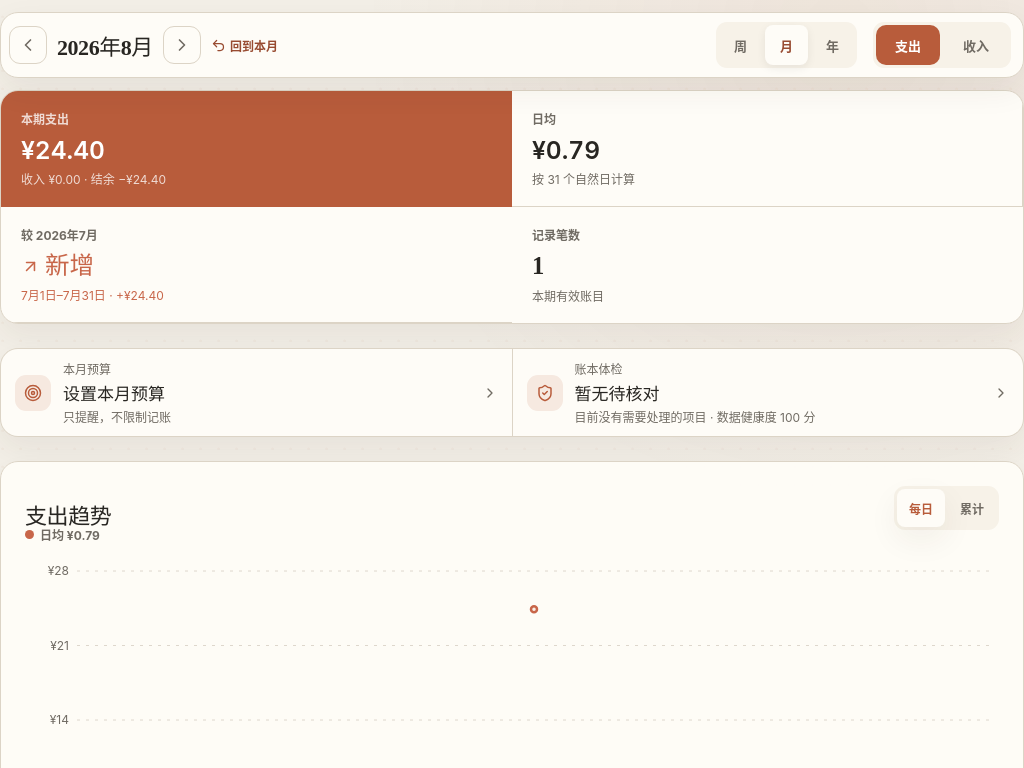
Test case: 洞察与账单下钻 › 期间、粒度和收支集中在同一吸顶栏，预算与事项合并为一张概况列表
Check: the element named "选择期间日期" holds "2026-08-01", box [51,29,159,61]
Check: the button named "上一个期间" is shown, box [9,26,47,64]
Click the button "收入": [976, 45] box [944,25,1008,65]
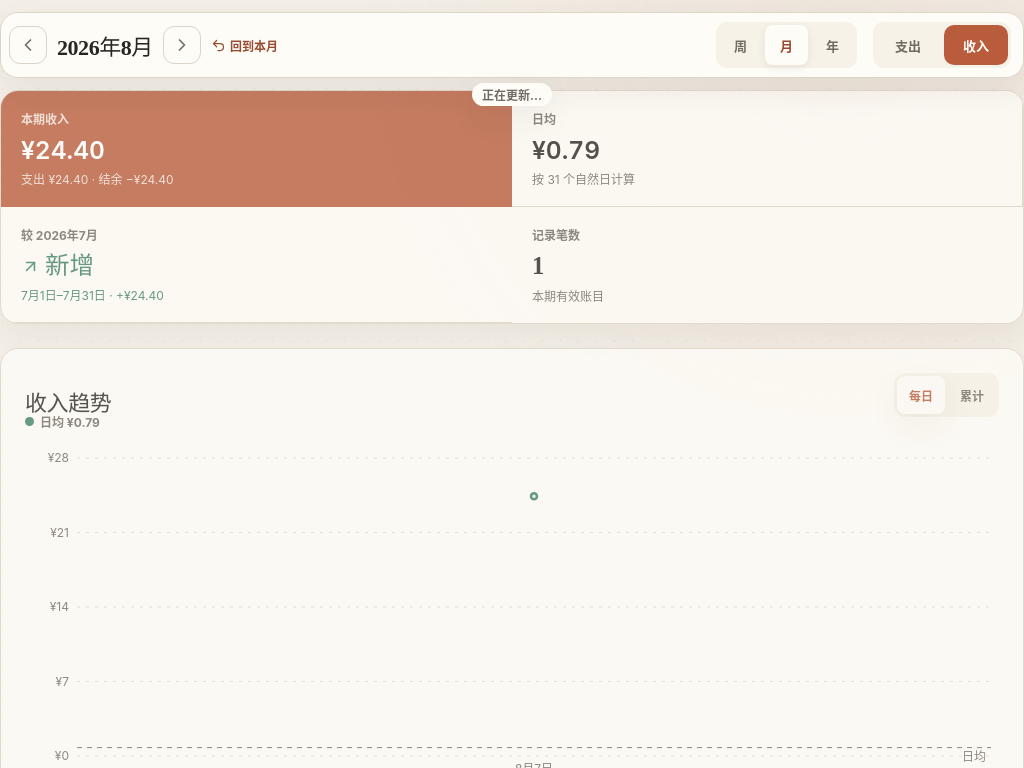
Click the button "年": [832, 45] box [811,25,854,65]
(page scrolled)
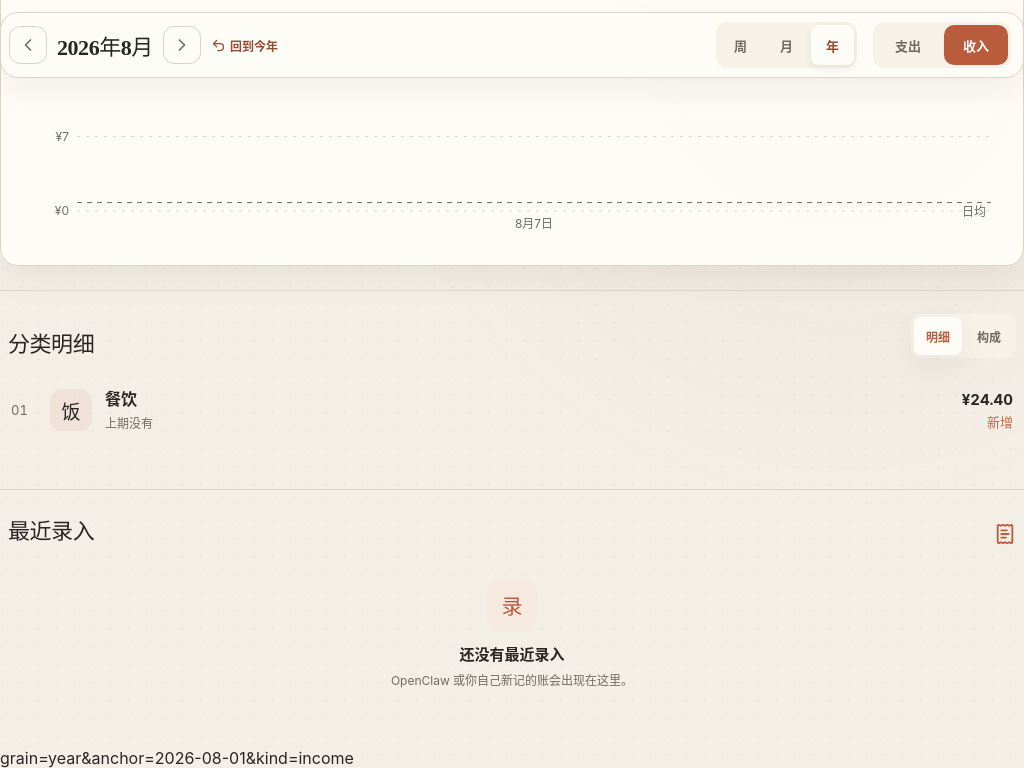
Check: the button "本月预算" is not shown
Check: the text with test id "location-search" shows "grain=year", box [0,748,354,767]
